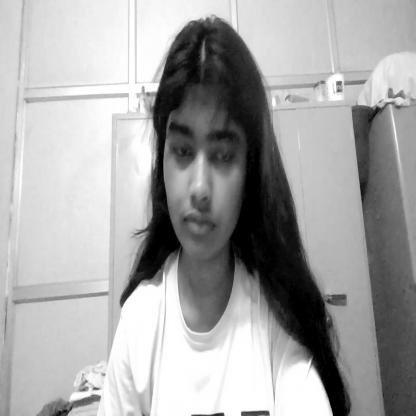Normal: (154, 24, 260, 266)
